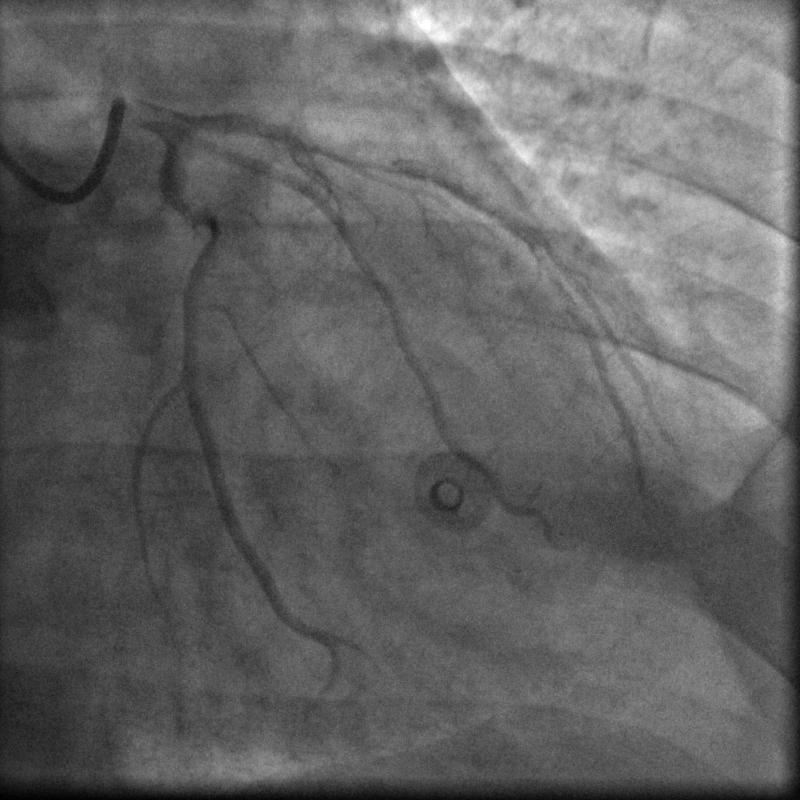Stenosis: (314, 139, 403, 183)
